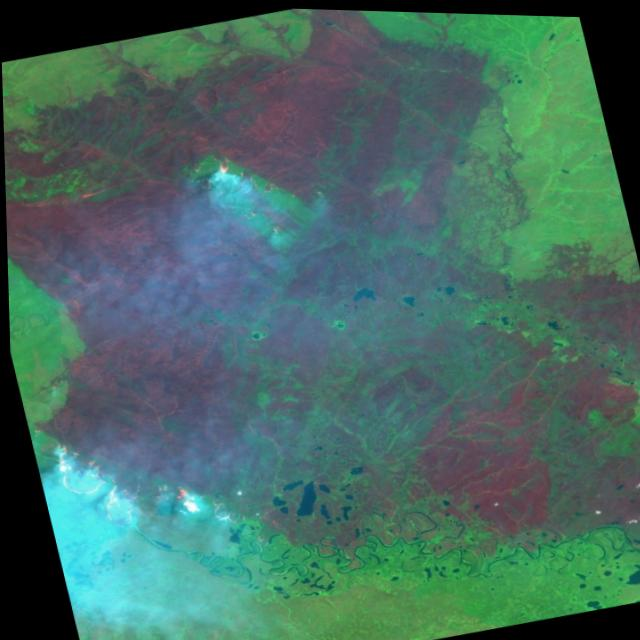fire: (40, 413, 203, 537), (201, 147, 245, 183)
